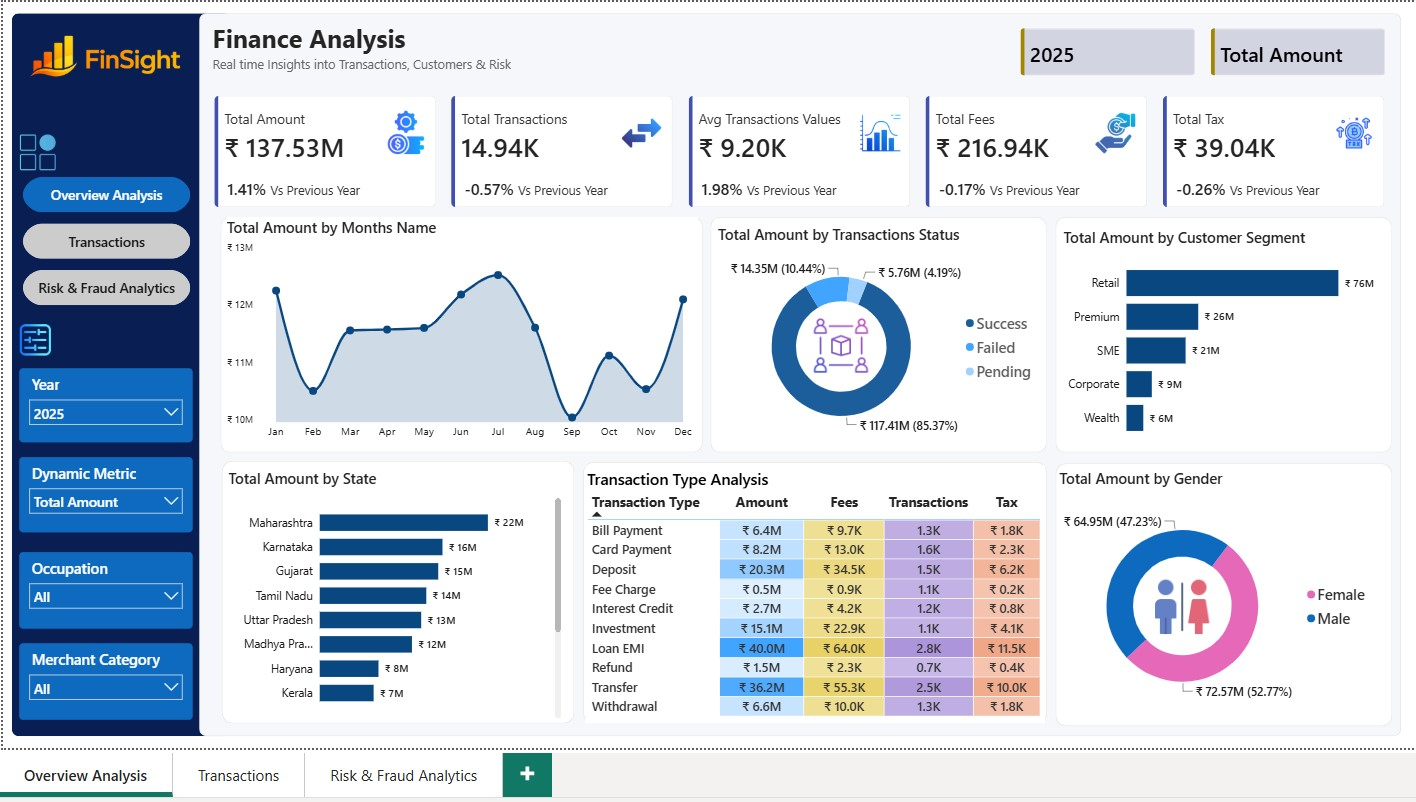

What the dashboard file says about the page in this screenshot:
{"tool":"powerbi","page":{"name":"Overview Analysis","canvas":[1800,950],"ordinal":0},"visuals":[{"type":"shape","box":[11.4,14.7,279.6,920.6],"z":0},{"type":"shape","box":[250.2,14.7,1530.5,920.6],"z":1000},{"type":"image","box":[27.8,27.8,210.9,85],"z":2000},{"type":"cardVisual","fields":{"Data":["finance_transactions.Dashboard Title"]},"box":[250.2,14.7,421.9,85],"z":3000},{"type":"cardVisual","fields":{"Data":["All Measures.Total Amount","All Measures.Total Transactions","All Measures.Avg Transactions Values","All Measures.Total Fees","All Measures.Total Tax"]},"box":[263.2,112.3,1505.3,154.4],"z":4000},{"type":"slicer","fields":{"Values":["Calander Table.Year"]},"box":[19.9,467.1,220.5,94.5],"z":5000},{"type":"image","box":[486.1,138.9,55.6,55.6],"z":6000},{"type":"image","box":[786.5,140.6,53.8,53.8],"z":7000},{"type":"image","box":[1090.3,140.6,53.8,53.8],"z":8000},{"type":"image","box":[1388.9,140.6,53.8,53.8],"z":9000},{"type":"image","box":[1694.4,140.6,53.8,53.8],"z":10000},{"type":"slicer","fields":{"Values":["Parameter.Parameter"]},"box":[19.9,579.1,220.5,96.2],"z":11000},{"type":"shape","box":[277.2,273.7,614,300],"z":12000},{"type":"areaChart","fields":{"Y":["All Measures.Total Amount"],"Category":["Calander Table.Months_Name"]},"box":[285,274.1,600,287.5],"z":13000},{"type":"cardVisual","fields":{"Data":["All Measures.Selected Dynammic Year","All Measures.Selected Dynamic Measures"]},"box":[1291.2,28.1,475.4,70.2],"z":14000},{"type":"shape","box":[900.6,274.1,428.1,300],"z":15000},{"type":"donutChart","fields":{"Y":["All Measures.Total Amount"],"Category":["finance_transactions.transaction_status"]},"box":[910,283.4,407.8,281.2],"z":16000},{"type":"shape","box":[1339.7,274.1,428.1,300],"z":17000},{"type":"barChart","fields":{"Y":["All Measures.Total Amount"],"Category":["customers.customer_segment"]},"box":[1349.1,283.4,407.8,281.2],"z":18000},{"type":"shape","box":[278.2,583.6,449.1,334.5],"z":19000},{"type":"barChart","fields":{"Y":["All Measures.Total Amount"],"Category":["customers.state"]},"box":[284.5,590,435.5,321.8],"z":20000},{"type":"shape","box":[738.2,585.5,590.9,332.7],"z":21000},{"type":"tableEx","title":"Transaction Type Analysis","fields":{"Values":["finance_transactions.transaction_type","All Measures.Total Amount","All Measures.Total Fees","All Measures.Total Transactions","All Measures.Total Tax"]},"box":[741.3,590.3,585.1,328.1],"z":22000},{"type":"shape","box":[1340.3,586.8,428.8,335.1],"z":23000},{"type":"donutChart","fields":{"Y":["All Measures.Total Amount"],"Category":["customers.gender"]},"box":[1345.5,593.8,418.4,321.2],"z":24000},{"type":"image","box":[1458.3,730.9,87,79],"z":25000},{"type":"image","box":[1029.3,400.3,74.5,76.2],"z":26000},{"type":"slicer","fields":{"Values":["customers.occupation"]},"box":[19.9,699.8,220.5,98],"z":27000},{"type":"slicer","fields":{"Values":["finance_transactions.merchant_category"]},"box":[19.9,817.1,220.5,98],"z":28000},{"type":"image","box":[17.5,168,54.2,45.5],"z":29000},{"type":"image","box":[14,407.7,54.2,45.5],"z":30000},{"type":"pageNavigator","box":[26,223.5,213.1,164.6],"z":31000}]}

Visuals, with their boxes on the page's 1800x950 design canvas (x1, y1, x2, y2). These are canvas units, not pixel positions in the 1416x802 screenshot, which may show the page scaled, cropped or inside an application window:
shape: pyautogui.locateOnScreen(11, 15, 291, 935)
shape: pyautogui.locateOnScreen(250, 15, 1781, 935)
image: pyautogui.locateOnScreen(28, 28, 239, 113)
cardVisual - finance_transactions.Dashboard Title: pyautogui.locateOnScreen(250, 15, 672, 100)
cardVisual - All Measures.Total Amount x All Measures.Total Transactions: pyautogui.locateOnScreen(263, 112, 1768, 267)
slicer - Calander Table.Year: pyautogui.locateOnScreen(20, 467, 240, 562)
image: pyautogui.locateOnScreen(486, 139, 542, 194)
image: pyautogui.locateOnScreen(786, 141, 840, 194)
image: pyautogui.locateOnScreen(1090, 141, 1144, 194)
image: pyautogui.locateOnScreen(1389, 141, 1443, 194)
image: pyautogui.locateOnScreen(1694, 141, 1748, 194)
slicer - Parameter.Parameter: pyautogui.locateOnScreen(20, 579, 240, 675)
shape: pyautogui.locateOnScreen(277, 274, 891, 574)
areaChart - All Measures.Total Amount x Calander Table.Months_Name: pyautogui.locateOnScreen(285, 274, 885, 562)
cardVisual - All Measures.Selected Dynammic Year x All Measures.Selected Dynamic Measures: pyautogui.locateOnScreen(1291, 28, 1767, 98)
shape: pyautogui.locateOnScreen(901, 274, 1329, 574)
donutChart - All Measures.Total Amount x finance_transactions.transaction_status: pyautogui.locateOnScreen(910, 283, 1318, 565)
shape: pyautogui.locateOnScreen(1340, 274, 1768, 574)
barChart - All Measures.Total Amount x customers.customer_segment: pyautogui.locateOnScreen(1349, 283, 1757, 565)
shape: pyautogui.locateOnScreen(278, 584, 727, 918)
barChart - All Measures.Total Amount x customers.state: pyautogui.locateOnScreen(284, 590, 720, 912)
shape: pyautogui.locateOnScreen(738, 586, 1329, 918)
"Transaction Type Analysis" tableEx: pyautogui.locateOnScreen(741, 590, 1326, 918)
shape: pyautogui.locateOnScreen(1340, 587, 1769, 922)
donutChart - All Measures.Total Amount x customers.gender: pyautogui.locateOnScreen(1346, 594, 1764, 915)
image: pyautogui.locateOnScreen(1458, 731, 1545, 810)
image: pyautogui.locateOnScreen(1029, 400, 1104, 476)
slicer - customers.occupation: pyautogui.locateOnScreen(20, 700, 240, 798)
slicer - finance_transactions.merchant_category: pyautogui.locateOnScreen(20, 817, 240, 915)
image: pyautogui.locateOnScreen(18, 168, 72, 214)
image: pyautogui.locateOnScreen(14, 408, 68, 453)
pageNavigator: pyautogui.locateOnScreen(26, 224, 239, 388)
